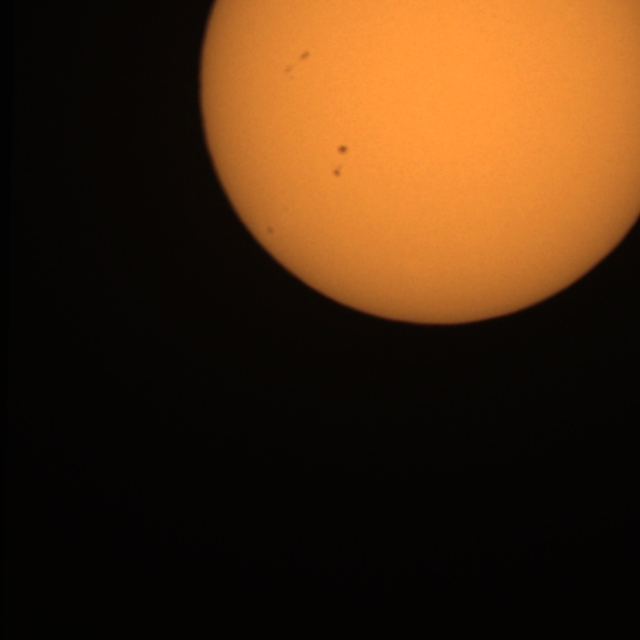sunspot: (282, 48, 312, 81), (331, 147, 348, 180), (298, 48, 312, 63), (336, 144, 350, 157), (264, 224, 276, 238), (331, 166, 343, 179)
